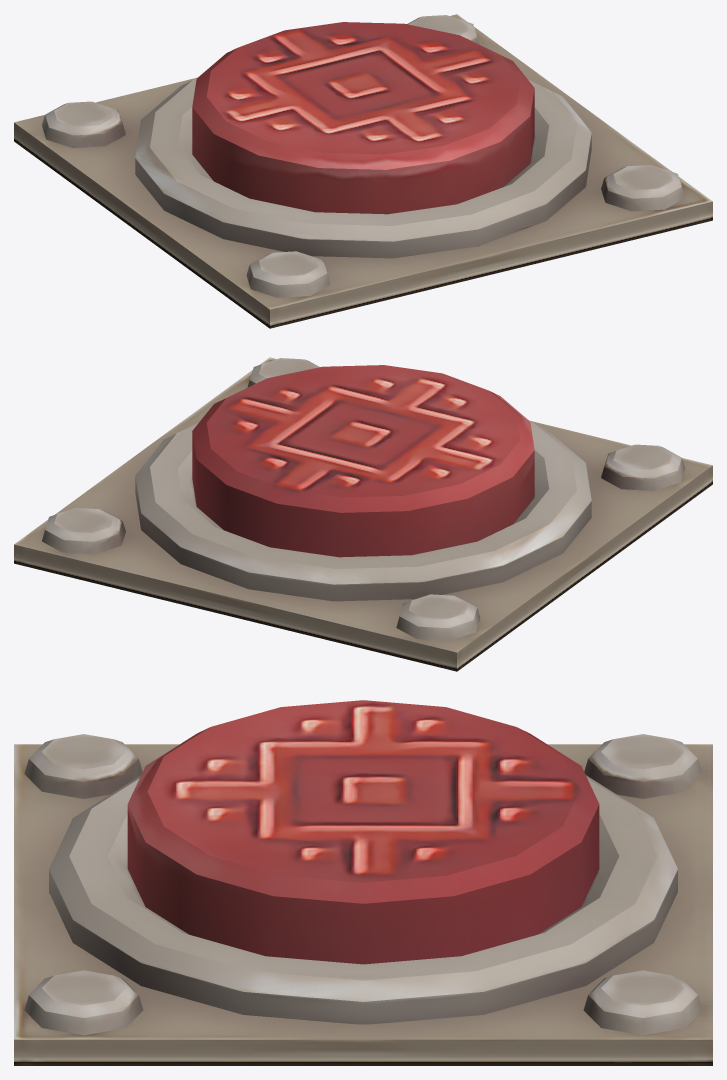
The model's file is Floor Sswitch Red_HD.fbx.
The picture shows the model from 3 angles, top to bottom: view 1: azimuth 30°, elevation 25°; view 2: azimuth 150°, elevation 25°; view 3: azimuth 270°, elevation 25°; orthographic projection. The views are drawn at different scales.
Visible parts, largest first — view 1: box, switch1; view 2: box, switch1; view 3: box, switch1.
Part boxes in pixels (x1,y1,x2,y2): box: (14,14,712,328); switch1: (192,22,534,214); box: (14,357,712,671); switch1: (192,365,534,557); box: (14,734,712,1065); switch1: (127,700,599,964).
Size of the model in its own units: 1 by 0.2 by 1.
